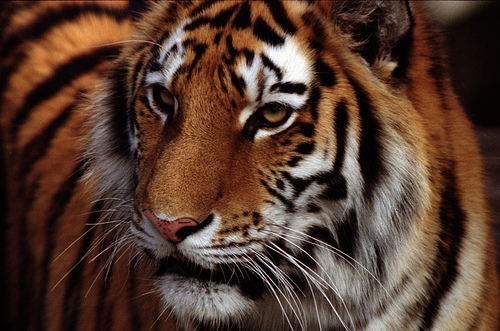Tigre: (114, 18, 381, 274)
